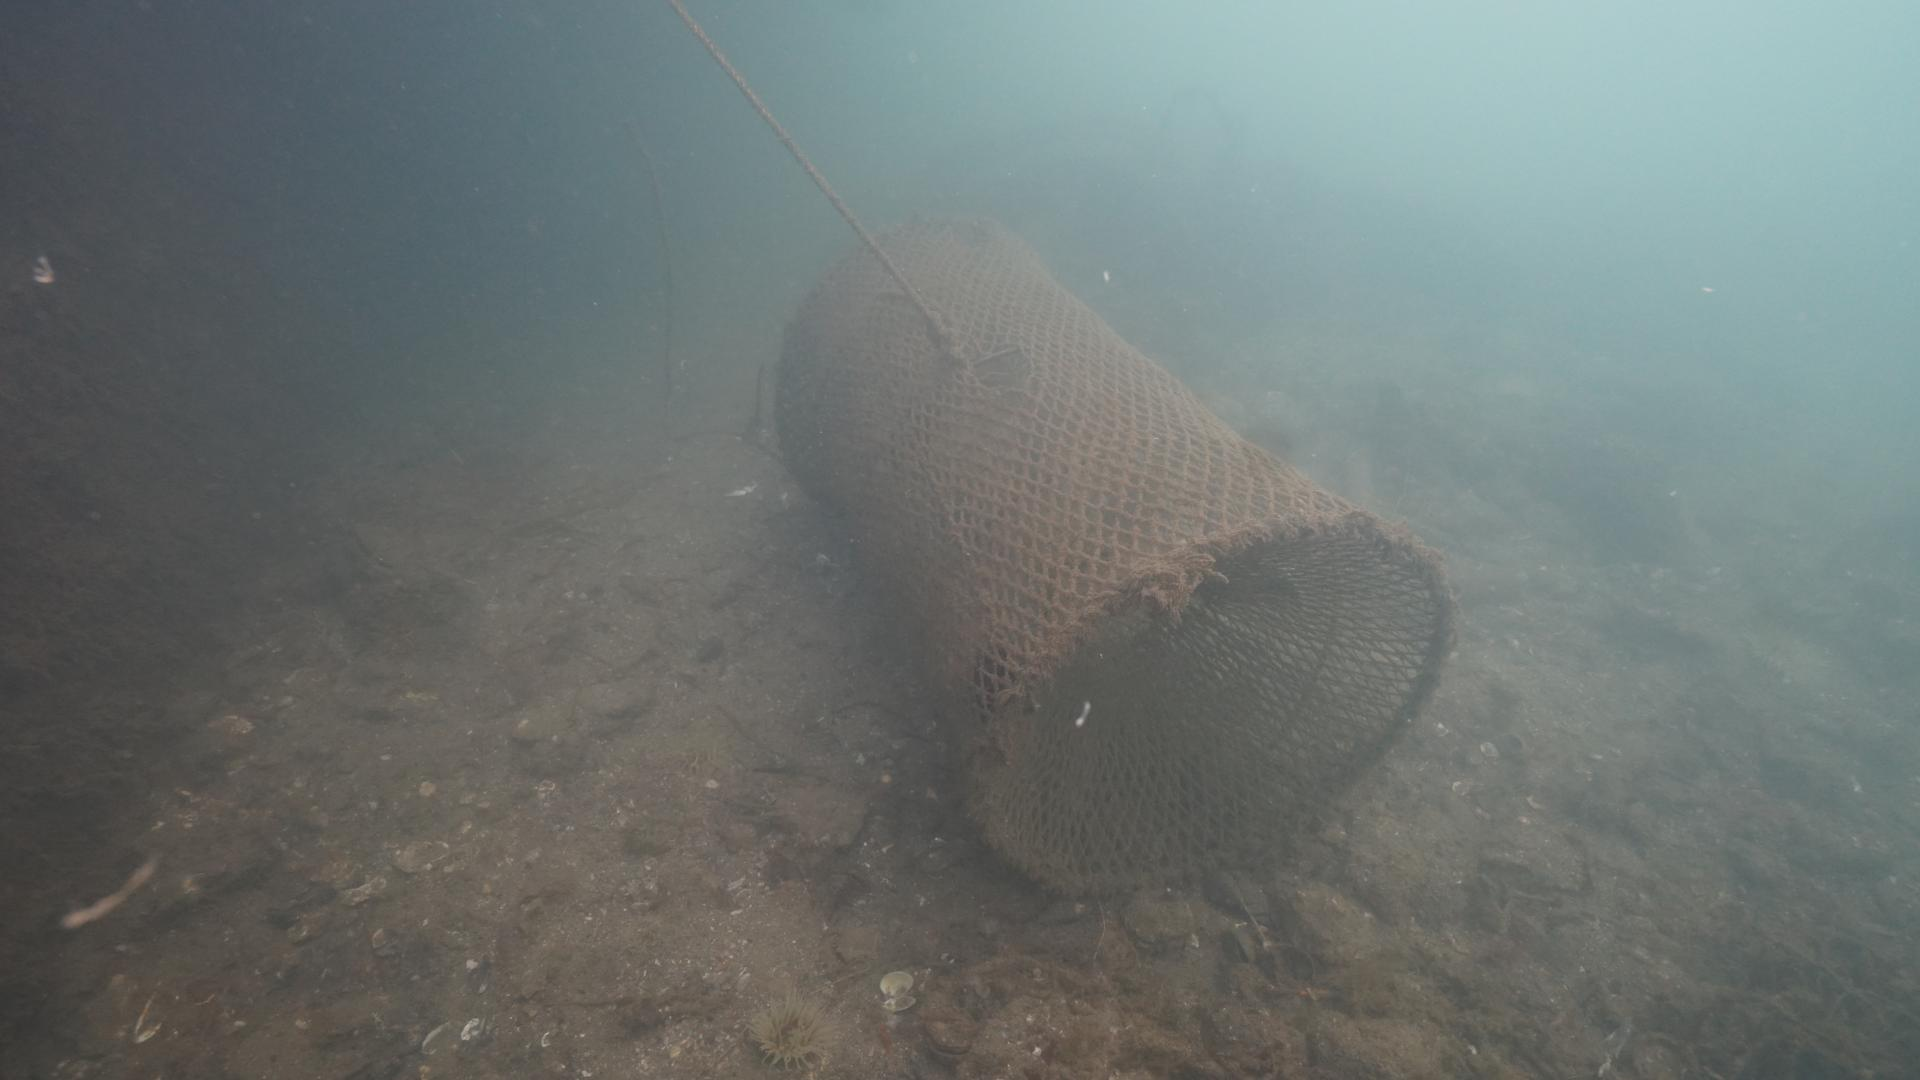rope: (665, 0, 971, 367)
spring fish trap: (767, 216, 1455, 901)
